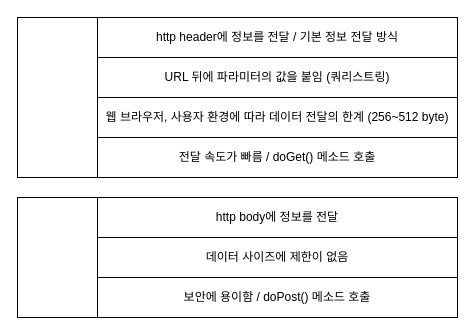
Image size: 475x335. Some labels were removed from this diagram. The shapes that lost their labels are listed below. From the top down, each one's centre as x and y in pixels, then its label:
the point at 57,97: get 방식
the point at 57,257: post 방식
